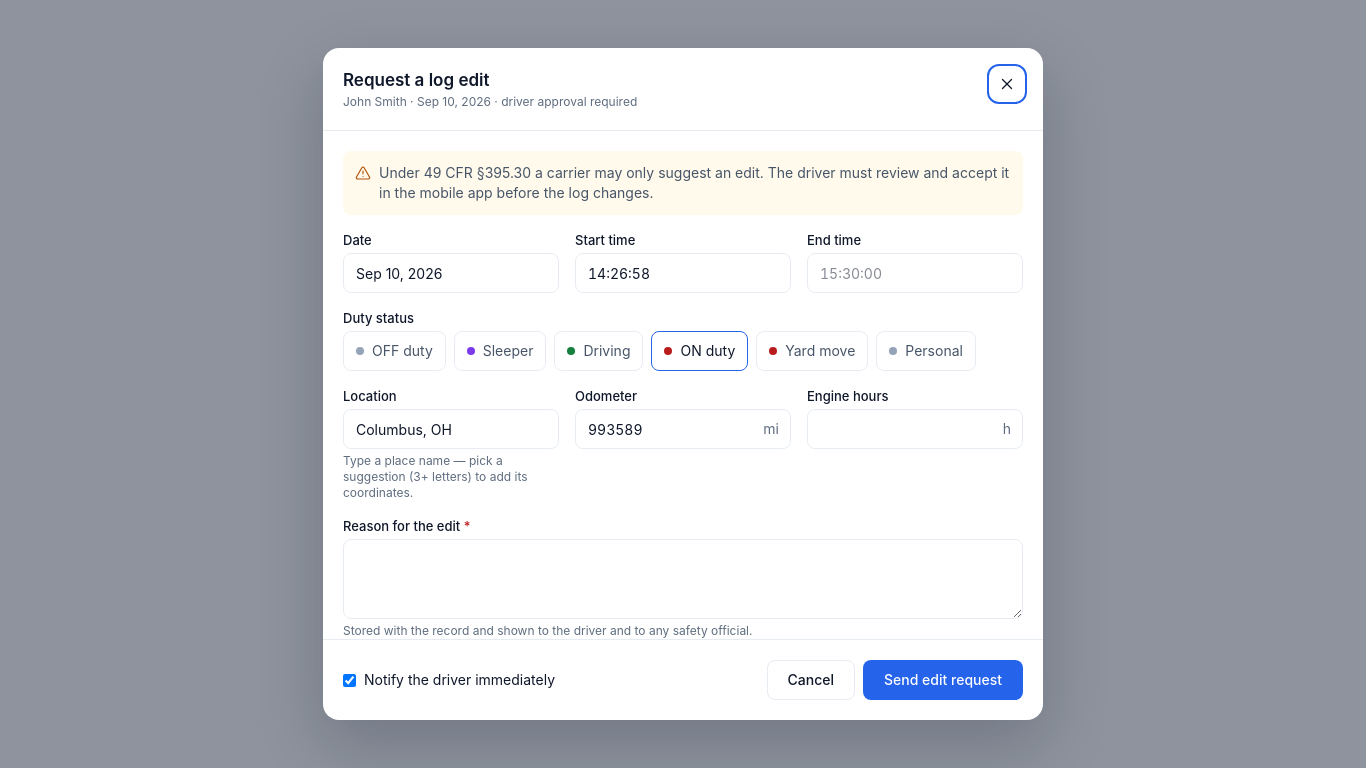
Test: 11.11 refusals are never silent › engine hours past the DTO cap are refused on the field, sending nothing
Type "99999.5" into the field labelled "Engine hours h" at [915, 429], box [807,409,1023,449]
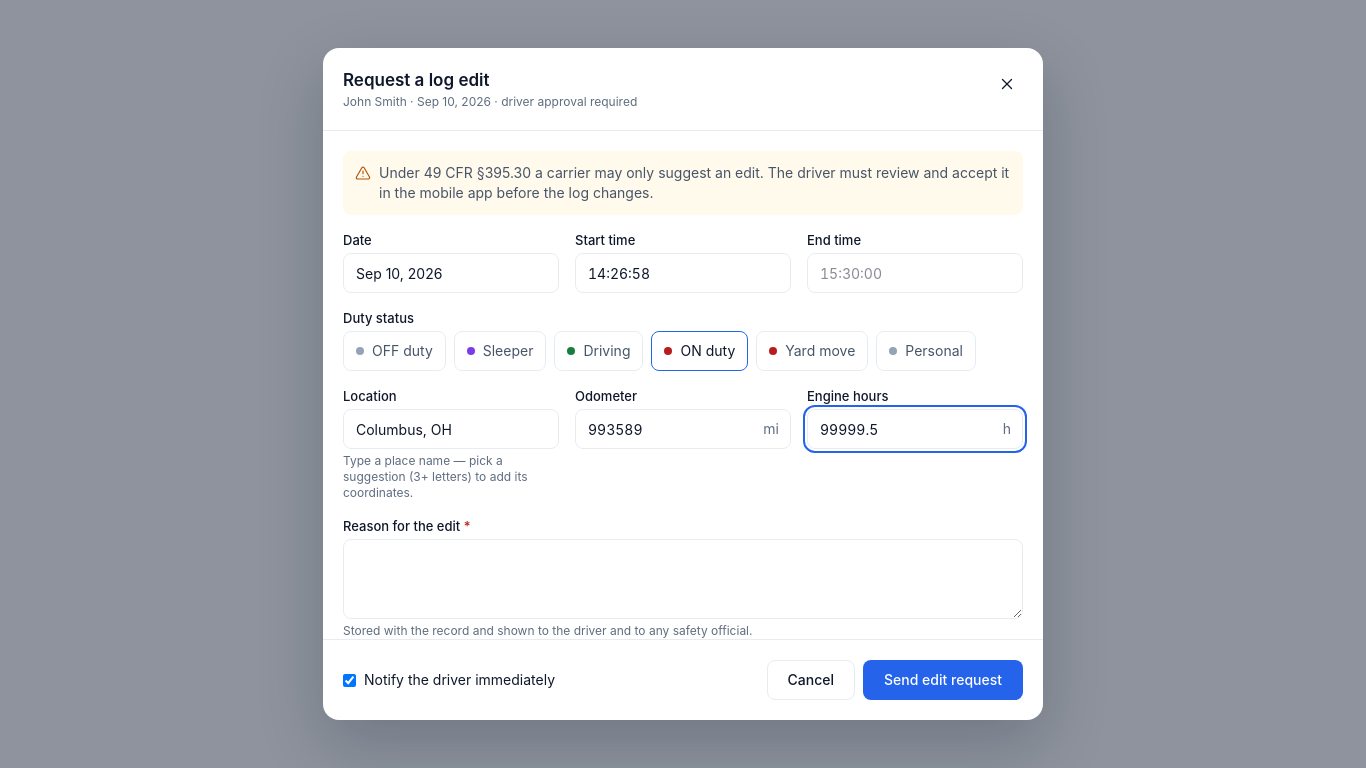
Type "Wrong status." into the text box labelled "Reason for the edit *" at [683, 579], box [343,539,1023,619]
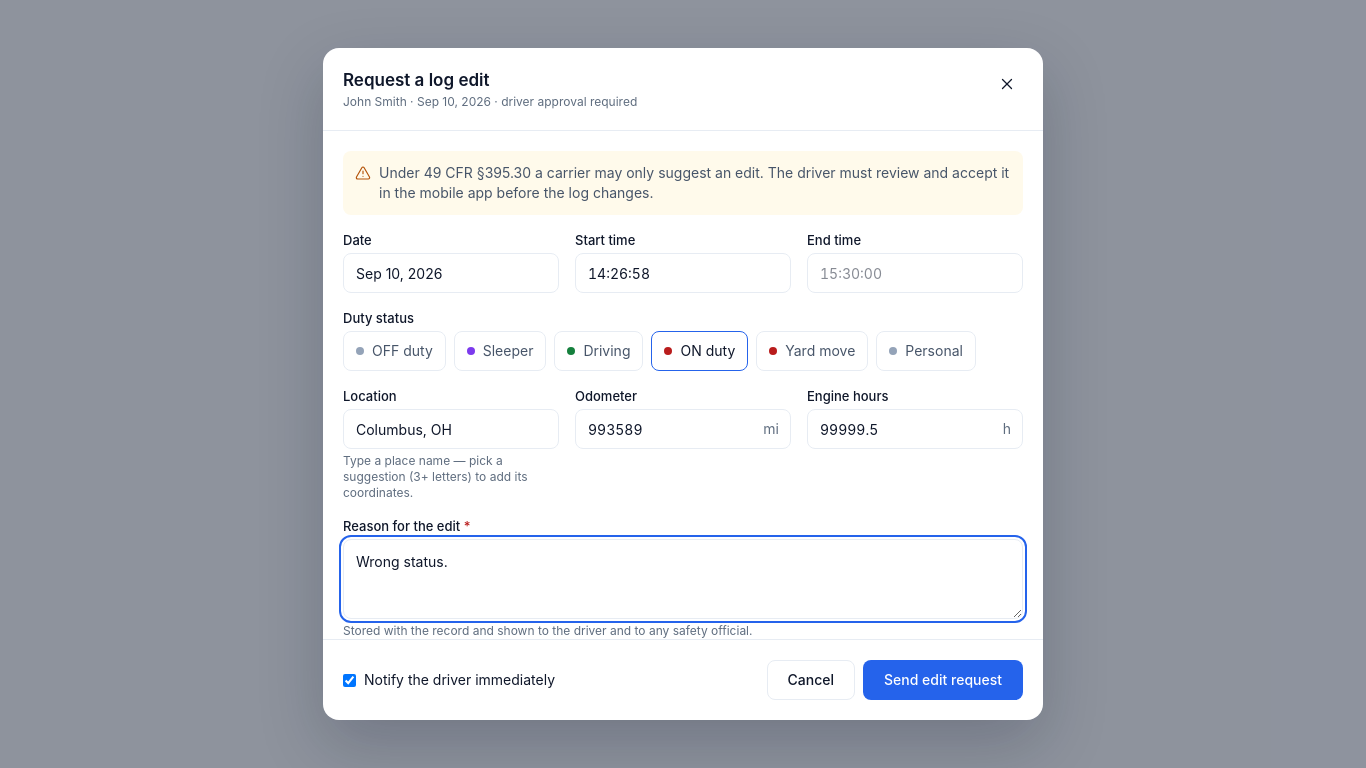
Click the button "Send edit request" at [943, 680], box [863,660,1023,700]
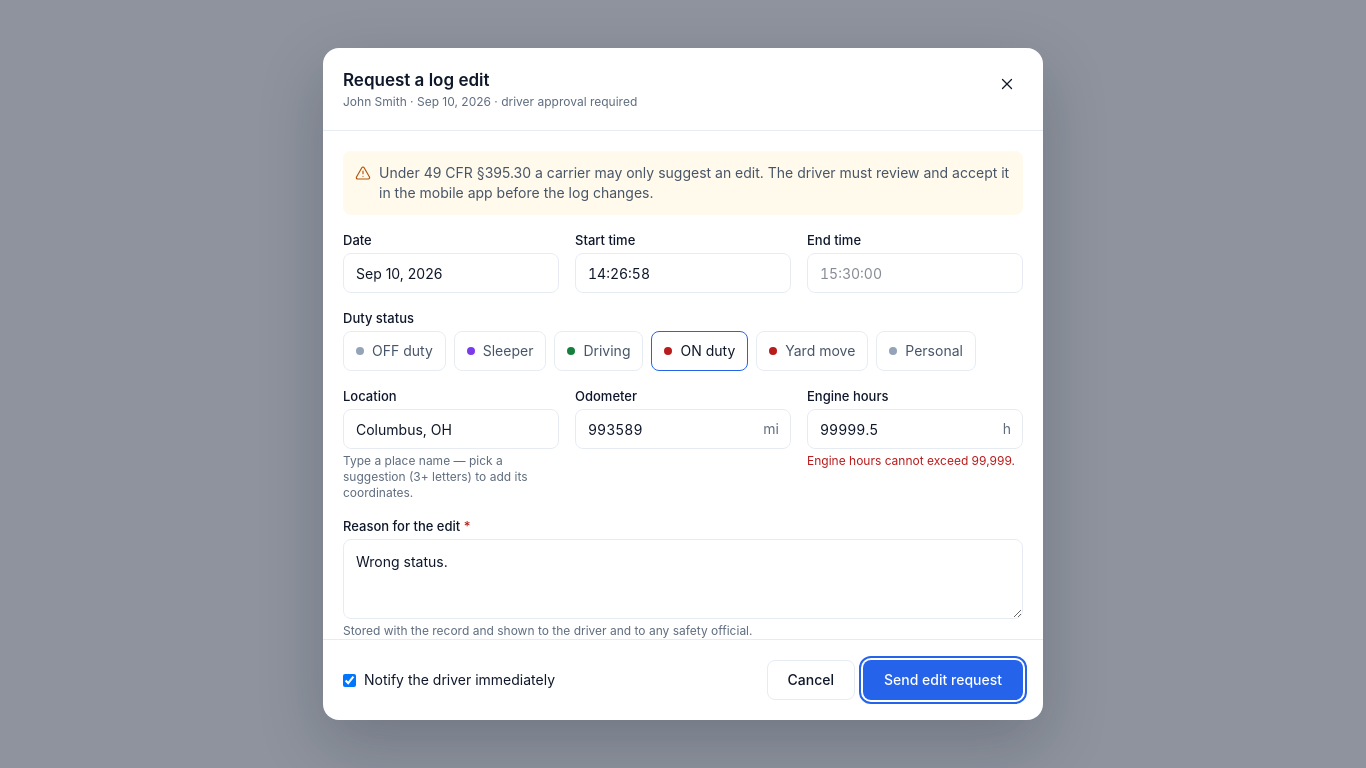
Result: the text "Engine hours cannot exceed 99,999." is shown at [807,453,1023,469]
